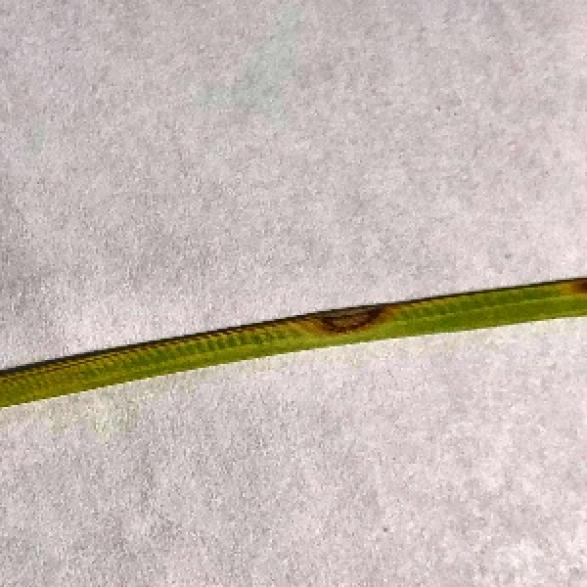Leaf_smut: (262, 284, 388, 356), (489, 274, 585, 313)
